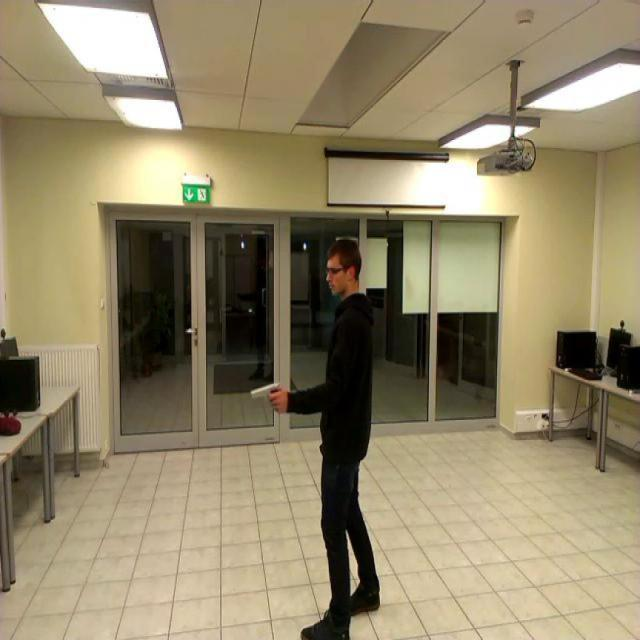pistol: (252, 381, 283, 408)
